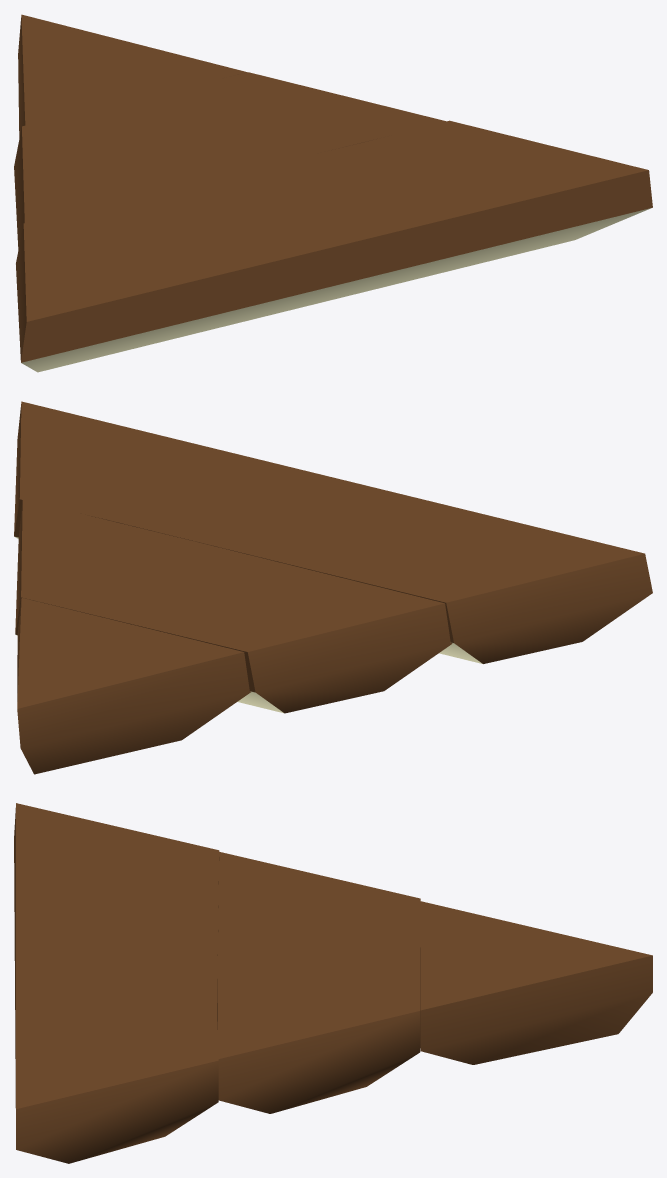
Rendered from willowSplitLogTriFloorSection2.glb.
3 views of the same model, one above another, from view 1: azimuth 30°, elevation 25°; view 2: azimuth 150°, elevation 25°; view 3: azimuth 270°, elevation 25° (orthographic).
Parts seen in each view (by area): view 1: inside; view 2: inside; view 3: inside.
Part boxes in pixels (<box>): inside: <box>14,14,652,372</box>; inside: <box>14,401,652,774</box>; inside: <box>14,803,652,1163</box>.
Bounding box in the file's own units: 1.03 × 0.1233 × 0.8959.
